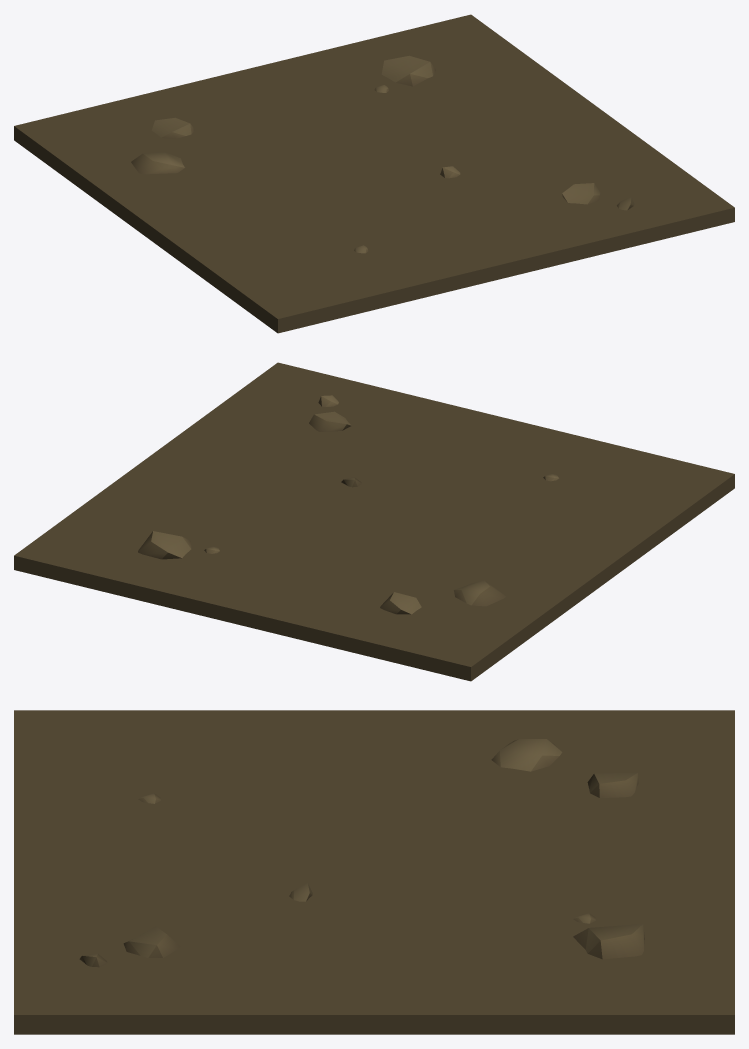
The model's file is floor_dirt_large.glb.
3 renders of one model, top to bottom at view 1: azimuth 30°, elevation 25°; view 2: azimuth 150°, elevation 25°; view 3: azimuth 270°, elevation 25°, orthographic. The views are drawn at different scales.
Parts seen in each view (by area): view 1: floor_dirt_large; view 2: floor_dirt_large; view 3: floor_dirt_large.
Part boxes in pixels (x1=…): floor_dirt_large: x1=14, y1=14, x2=734, y2=333; floor_dirt_large: x1=14, y1=362, x2=734, y2=681; floor_dirt_large: x1=14, y1=710, x2=734, y2=1034.
Bounding box in the file's own units: 4 × 0.2086 × 4.
1 material, 1 textured.
